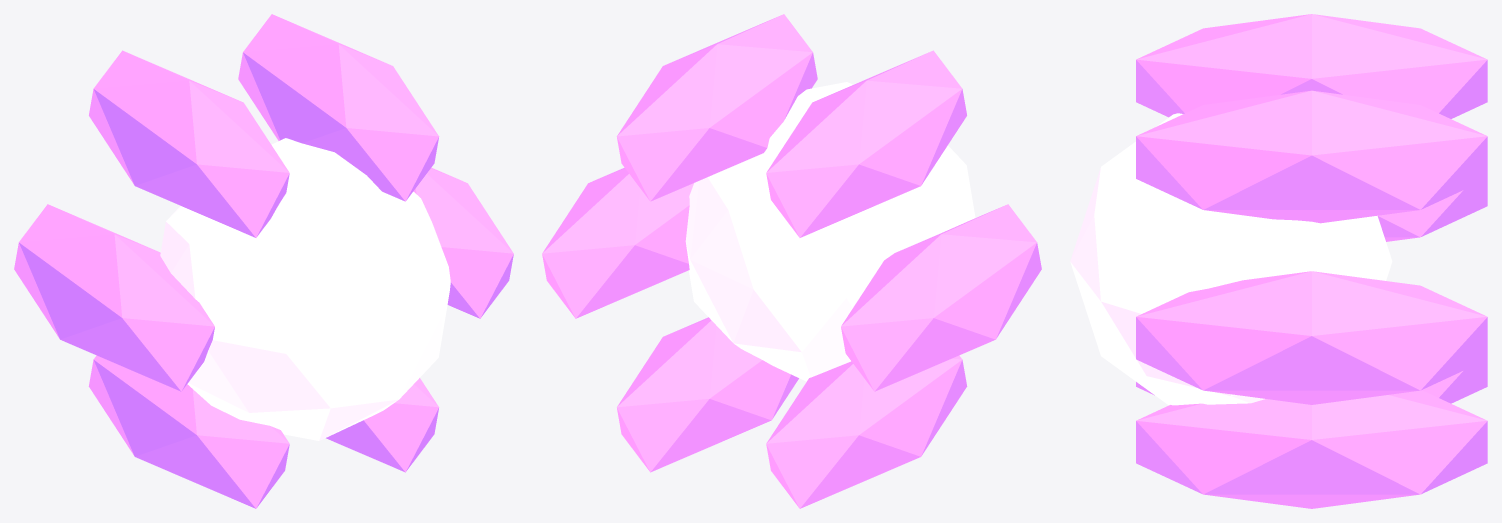
File: magicProjectile.glb
3 views of the same model, side by side, from view 1: azimuth 30°, elevation 25°; view 2: azimuth 150°, elevation 25°; view 3: azimuth 270°, elevation 25° (orthographic). The views are drawn at different scales.
Visible parts, largest first — view 1: Magic_Projectile; view 2: Magic_Projectile; view 3: Magic_Projectile.
Part boxes in pixels (bbox=[...]): Magic_Projectile: bbox=[14, 14, 513, 508]; Magic_Projectile: bbox=[542, 14, 1041, 508]; Magic_Projectile: bbox=[1070, 14, 1487, 508].
Size of the model in its own units: 0.7368 by 0.6877 by 0.622.
